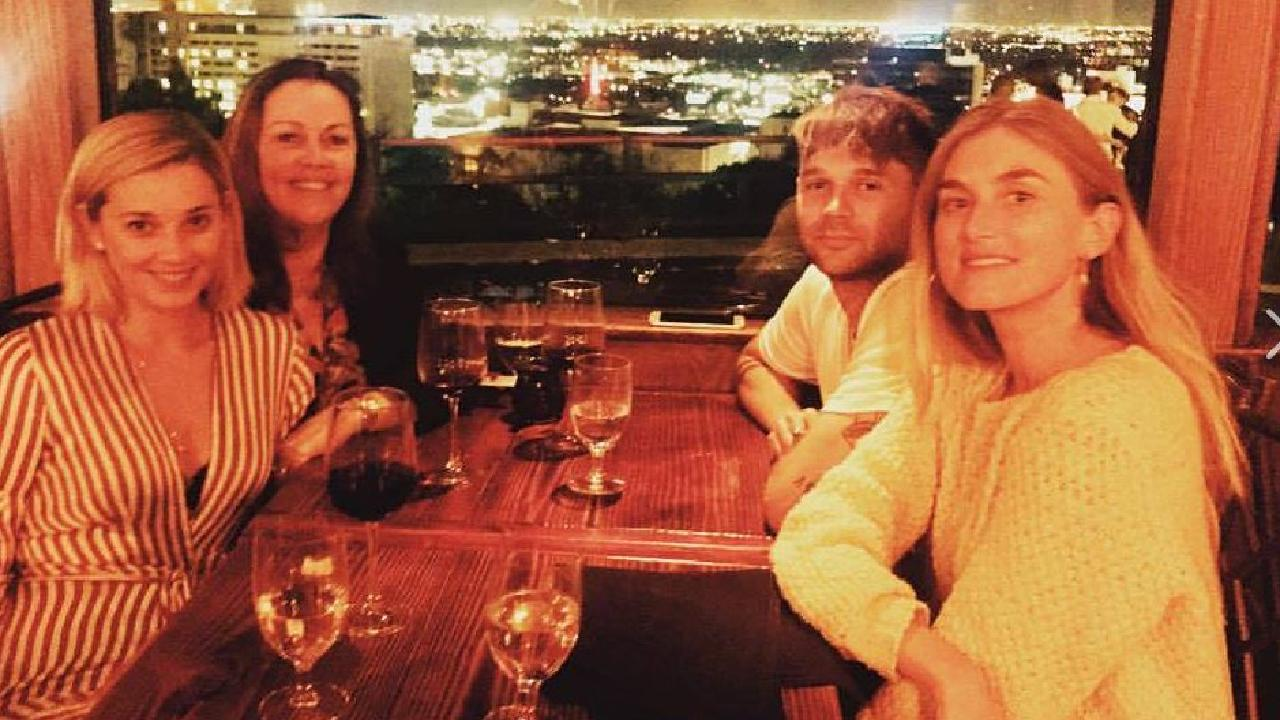Person: (917, 98, 1251, 720), (1, 109, 249, 547), (739, 83, 931, 392), (229, 59, 423, 317)
